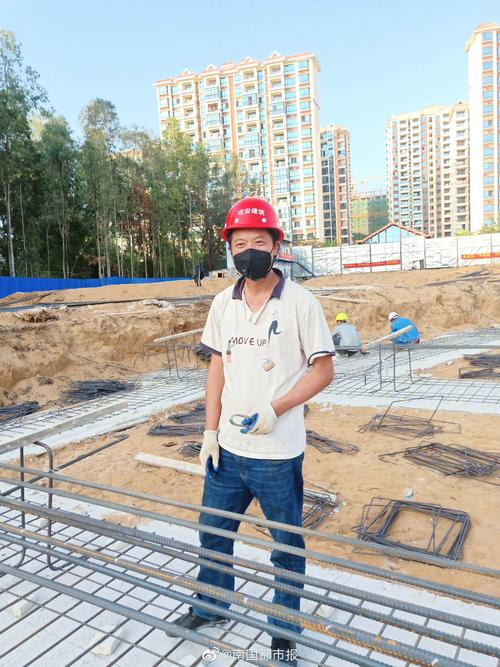mask: (227, 229, 277, 278)
